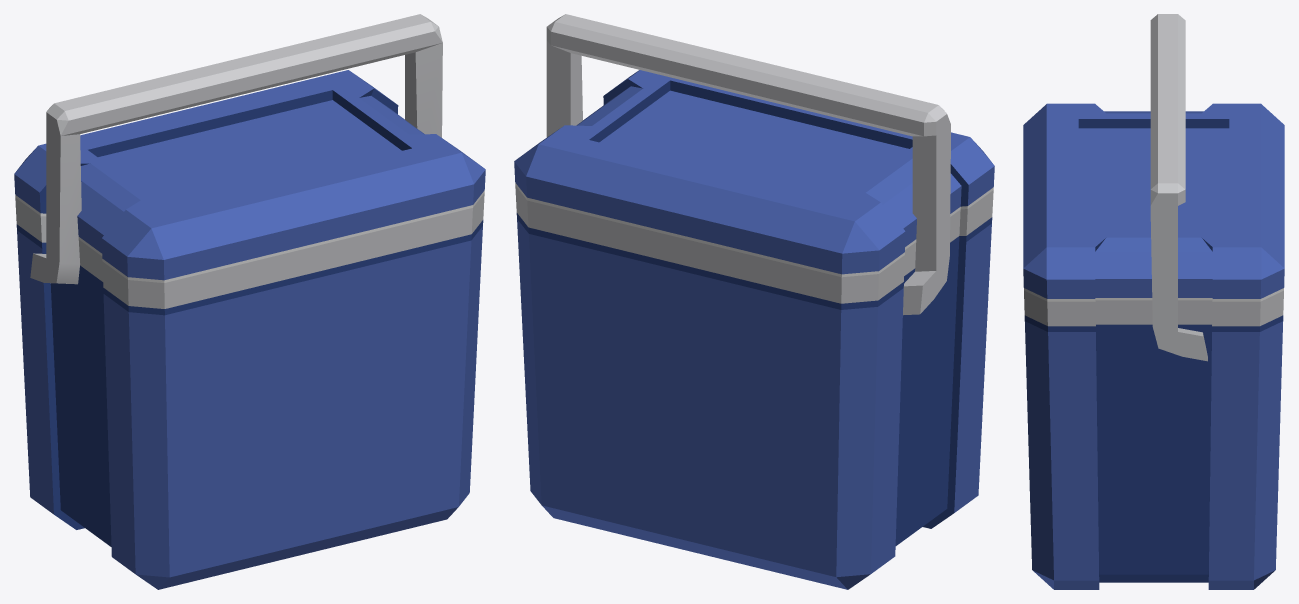
The model's file is Esky.fbx.
3 views of the same model, side by side, from view 1: azimuth 30°, elevation 25°; view 2: azimuth 150°, elevation 25°; view 3: azimuth 270°, elevation 25° (orthographic). The views are drawn at different scales.
Parts seen in each view (by area): view 1: esky; view 2: esky; view 3: esky.
Part boxes in pixels (left/top/right/bottom): esky: left=14, top=14, right=485, bottom=589; esky: left=514, top=14, right=994, bottom=589; esky: left=1023, top=14, right=1284, bottom=589.
Size of the model in its own units: 51.04 by 57.18 by 31.92.
